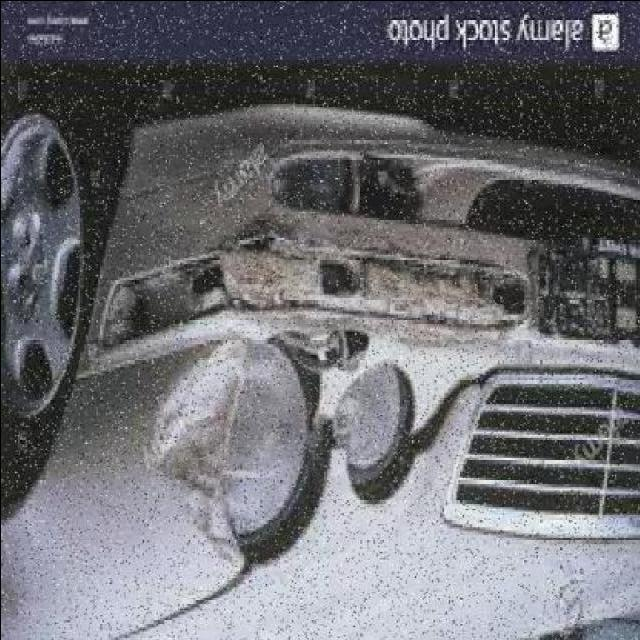fender-dent: (2, 347, 241, 634)
front-bumper-dent: (80, 100, 640, 360)
